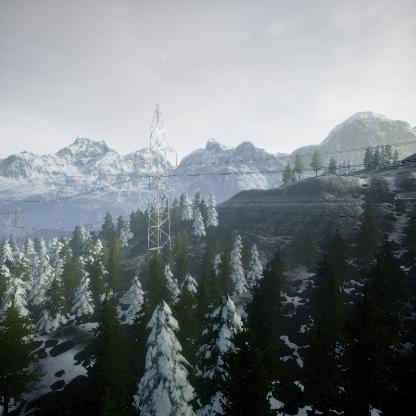tower: (130, 101, 181, 265)
